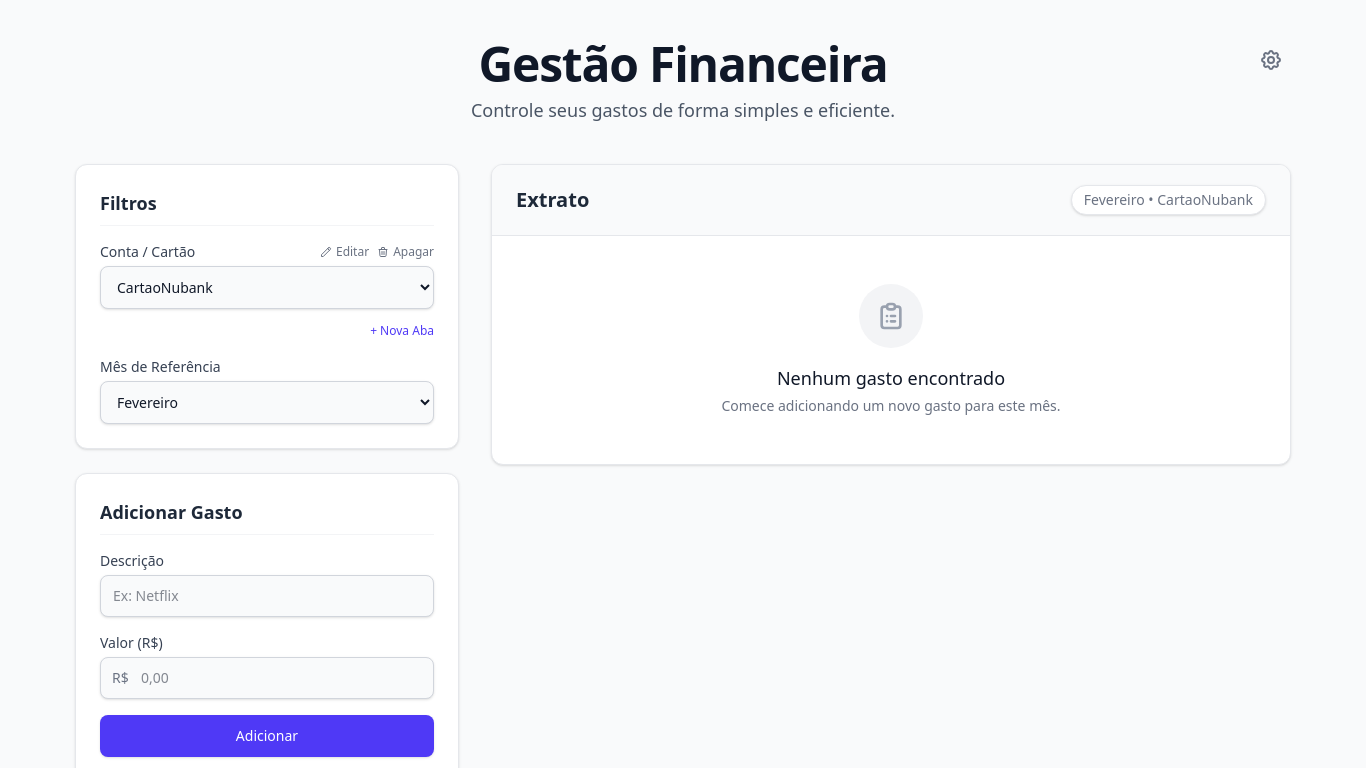
Test case: App Component › updates aba when selector changes
The width and height of the screenshot is (1366, 768).
Select "CartaoInter" in the dropdown labelled "Conta / Cartão". click: {"x": 267, "y": 288}
box: [100,266,434,309]
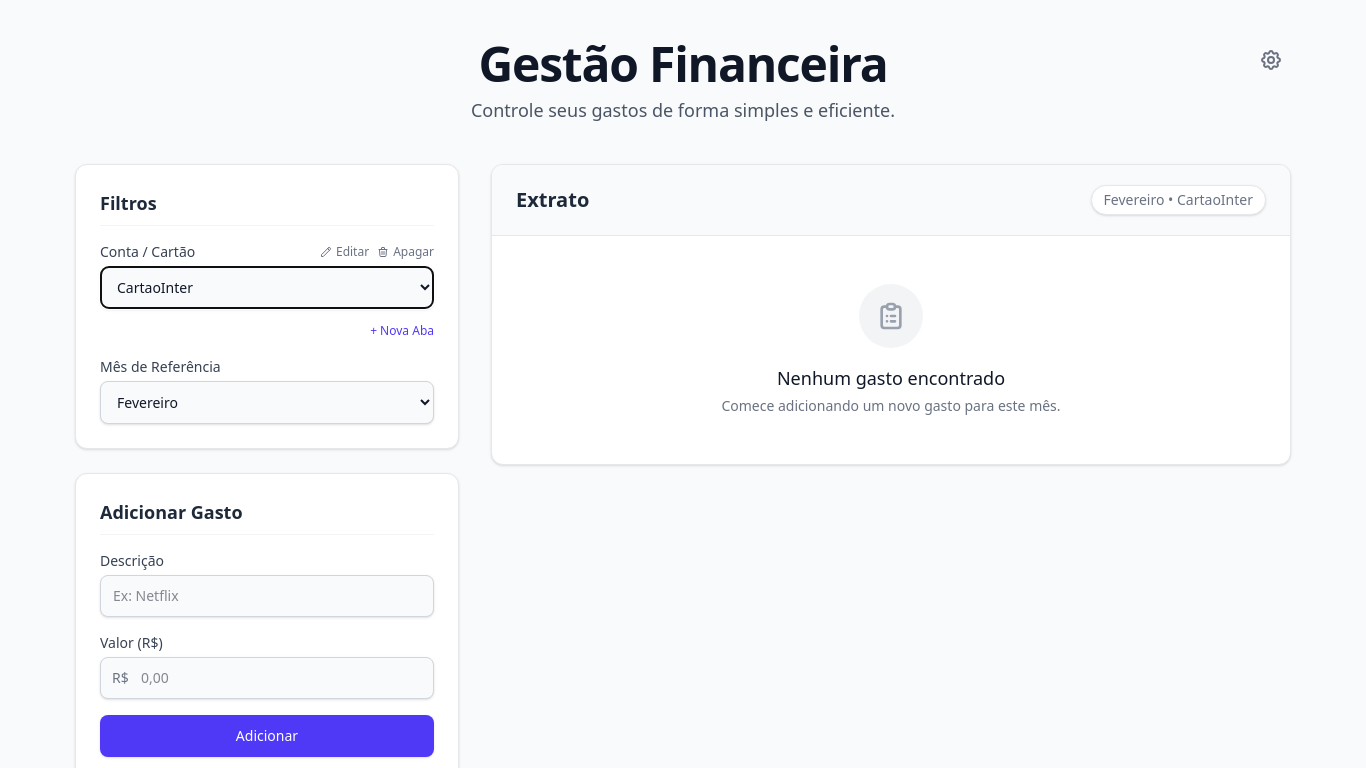
Now the text "Fevereiro • CartaoInter" is shown, box [1091,185,1266,215]
